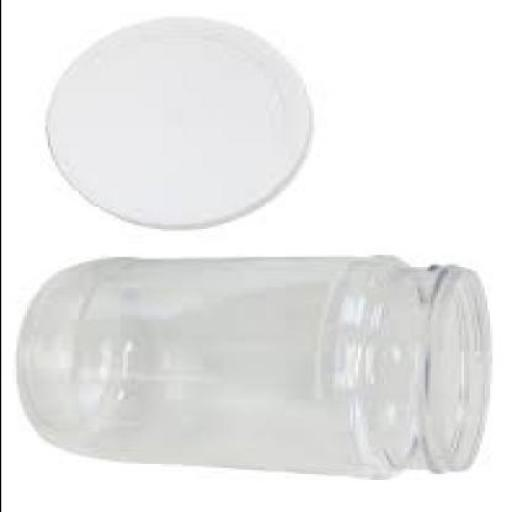glass: (18, 257, 494, 481)
plastic: (52, 20, 312, 231)
